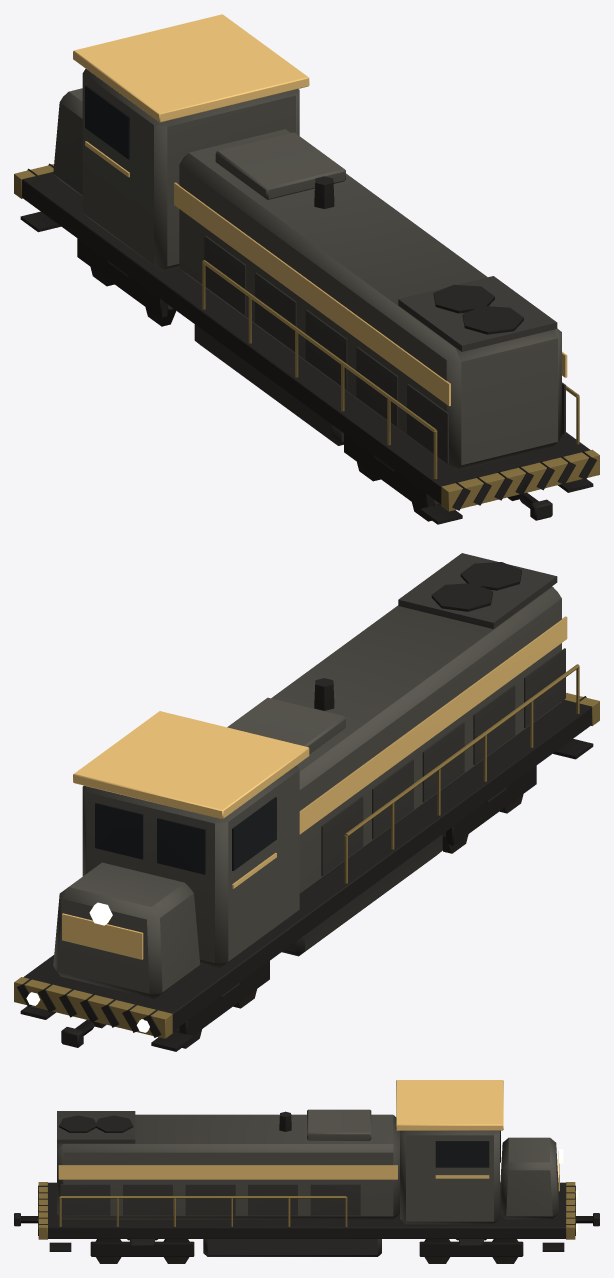
File: train_locomotive.glb
The picture shows the model from 3 angles, top to bottom: view 1: azimuth 30°, elevation 25°; view 2: azimuth 150°, elevation 25°; view 3: azimuth 270°, elevation 25°; orthographic projection. The views are drawn at different scales.
Visible parts, largest first — view 1: Locomotive; view 2: Locomotive; view 3: Locomotive.
Part boxes in pixels (x1,y1,x2,y2): Locomotive: [14, 14, 599, 524]; Locomotive: [14, 553, 599, 1051]; Locomotive: [14, 1080, 599, 1263].
Bounding box in the file's own units: 0.682 × 1 × 3.61.
